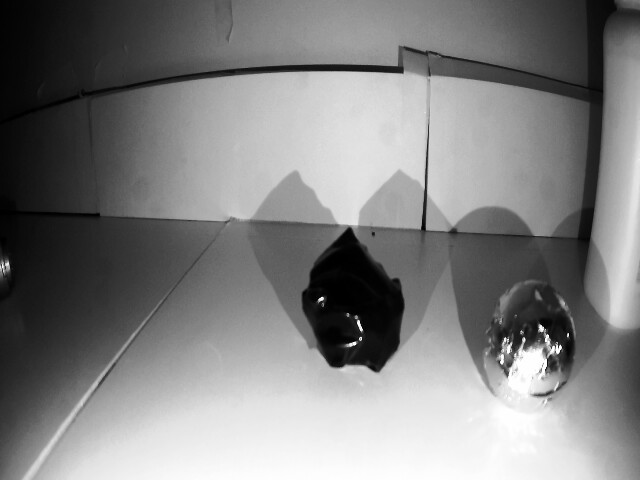black: (488, 274, 576, 422)
silver: (302, 250, 413, 373)
